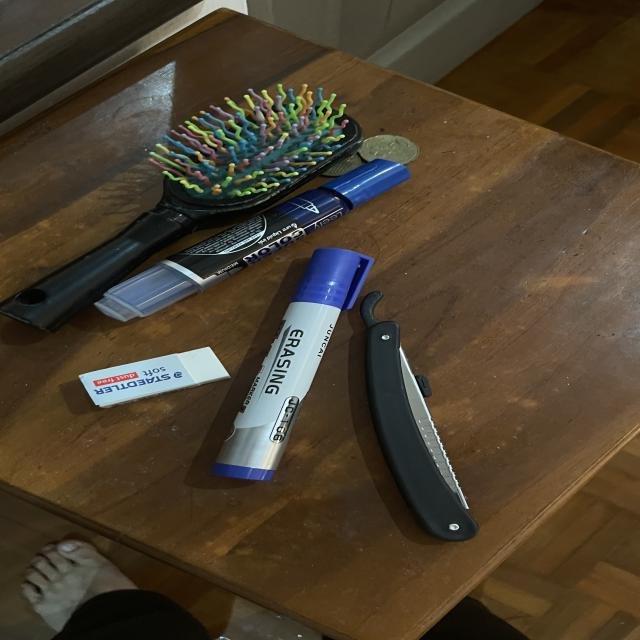eraser: (79, 347, 230, 408)
marker: (95, 160, 410, 321), (212, 248, 373, 481)
